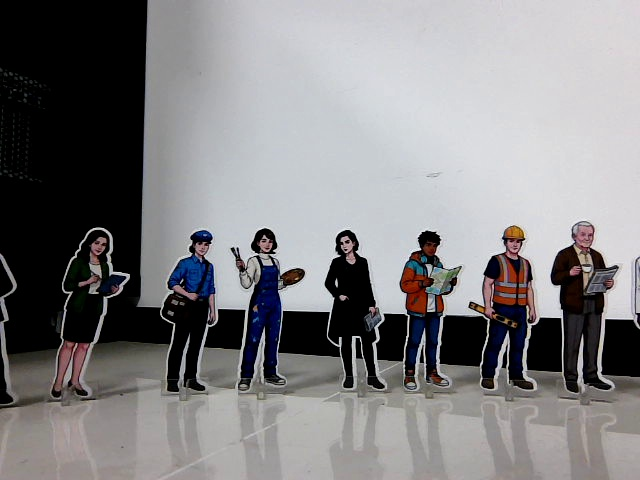community_person: (47, 219, 131, 411), (548, 213, 624, 410), (467, 219, 545, 409), (229, 222, 307, 404), (319, 223, 389, 407), (395, 224, 464, 407), (157, 223, 223, 408), (0, 213, 25, 417), (630, 214, 640, 411)
